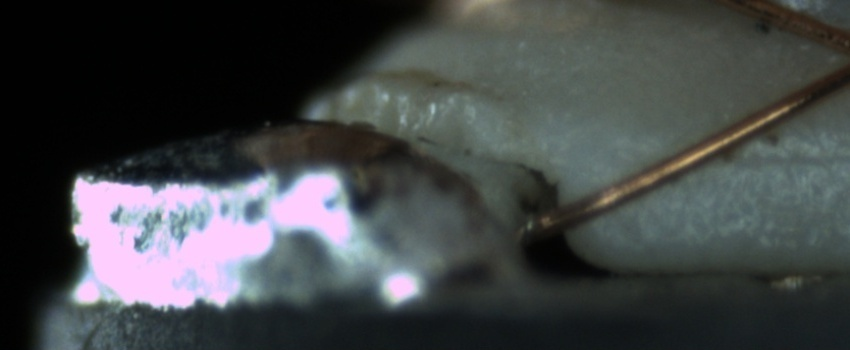DL: (696, 121, 849, 190)
